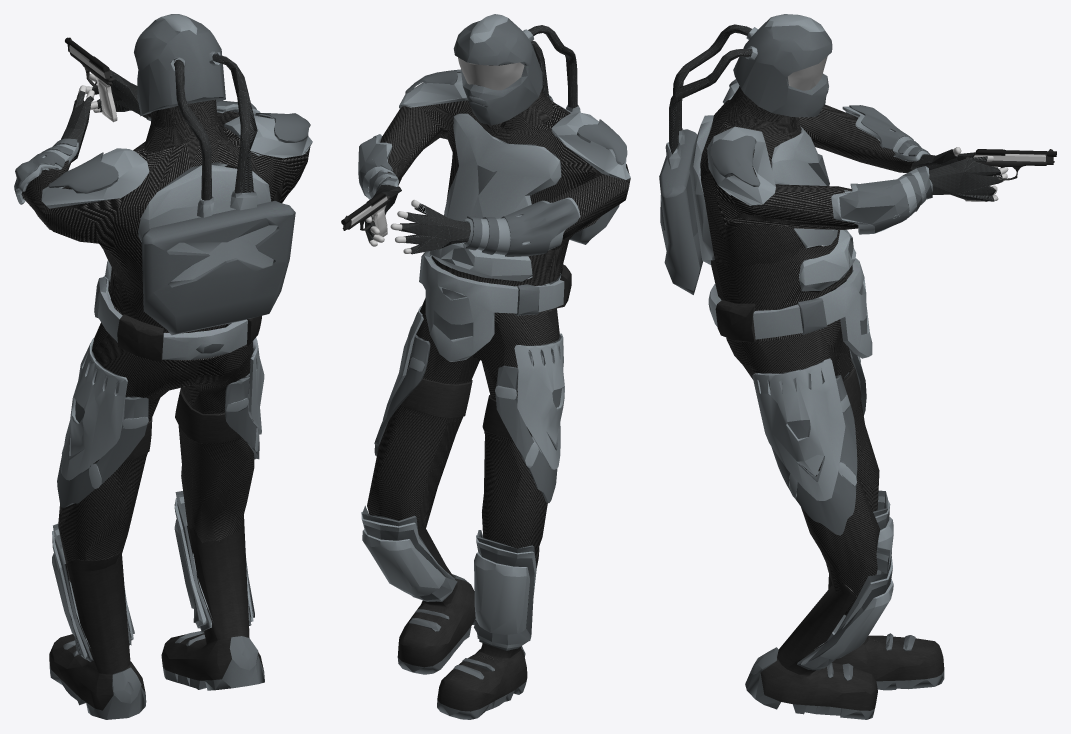
Rendered from AndarPistola.0016.obj.
3 views of the same model, side by side, from view 1: azimuth 30°, elevation 25°; view 2: azimuth 150°, elevation 25°; view 3: azimuth 270°, elevation 25° (orthographic). The views are drawn at different scales.
Visible parts, largest first — view 1: personajeskefix:personaje:extrudedSurface2 polySurface142, personajeskefix:personaje:bota1 polySurface142, personajeskefix:personaje:PANTALON polySurface142, personajeskefix:personaje:CAMISETABUENA polySurface142, personajeskefix:personaje:pPipe4 polySurface142, personajeskefix:personaje:pCube4 polySurface142, personajeskefix:personaje:cosoarmdaurapierna1 polySurface142, personajeskefix:personaje:cinturon polySurface142, personajeskefix:personaje:armadbota1 polySurface142, personajeskefix:personaje:polySurface6 polySurface142, personajeskefix:personaje:HOMBRO2 polySurface142, personajeskefix:personaje:polySurface11 polySurface142 (+5 smaller); view 2: personajeskefix:personaje:PANTALON polySurface142, personajeskefix:personaje:pPipe4 polySurface142, personajeskefix:personaje:CAMISETABUENA polySurface142, personajeskefix:personaje:bota1 polySurface142, personajeskefix:personaje:armadbota1 polySurface142, personajeskefix:personaje:cinturon polySurface142, personajeskefix:personaje:pCube4 polySurface142, personajeskefix:personaje:extrudedSurface2 polySurface142, personajeskefix:personaje:cosoarmdaurapierna1 polySurface142, personajeskefix:personaje:polySurface2 polySurface142, personajeskefix:personaje:polySurface6 polySurface142, personajeskefix:personaje:cosoarmadurapierna2 polySurface142 (+8 smaller); view 3: personajeskefix:personaje:CAMISETABUENA polySurface142, personajeskefix:personaje:pPipe4 polySurface142, personajeskefix:personaje:extrudedSurface2 polySurface142, personajeskefix:personaje:bota1 polySurface142, personajeskefix:personaje:pCube4 polySurface142, personajeskefix:personaje:PANTALON polySurface142, personajeskefix:personaje:cinturon polySurface142, personajeskefix:personaje:cosoarmadurapierna2 polySurface142, personajeskefix:personaje:armadbota1 polySurface142, personajeskefix:personaje:hombro1 polySurface142, pistola:Cylinder001 polySurface142, personajeskefix:personaje:polySurface2 polySurface142 (+4 smaller).
Part boxes in pixels (<box>): personajeskefix:personaje:extrudedSurface2 polySurface142: <box>134,14,295,335</box>; personajeskefix:personaje:bota1 polySurface142: <box>49,515,264,719</box>; personajeskefix:personaje:PANTALON polySurface142: <box>58,299,254,582</box>; personajeskefix:personaje:CAMISETABUENA polySurface142: <box>21,99,310,360</box>; personajeskefix:personaje:pPipe4 polySurface142: <box>41,69,312,280</box>; personajeskefix:personaje:pCube4 polySurface142: <box>53,323,264,661</box>; personajeskefix:personaje:cosoarmdaurapierna1 polySurface142: <box>61,338,148,488</box>; personajeskefix:personaje:cinturon polySurface142: <box>94,275,261,362</box>; personajeskefix:personaje:armadbota1 polySurface142: <box>52,496,253,659</box>; personajeskefix:personaje:polySurface6 polySurface142: <box>124,388,241,461</box>; personajeskefix:personaje:HOMBRO2 polySurface142: <box>48,152,118,193</box>; personajeskefix:personaje:polySurface11 polySurface142: <box>174,59,211,200</box>; personajeskefix:personaje:PANTALON polySurface142: <box>367,273,559,556</box>; personajeskefix:personaje:pPipe4 polySurface142: <box>358,72,630,281</box>; personajeskefix:personaje:CAMISETABUENA polySurface142: <box>368,64,630,314</box>; personajeskefix:personaje:bota1 polySurface142: <box>397,525,539,719</box>; personajeskefix:personaje:armadbota1 polySurface142: <box>361,511,536,648</box>; personajeskefix:personaje:cinturon polySurface142: <box>419,251,571,361</box>; personajeskefix:personaje:pCube4 polySurface142: <box>362,306,561,650</box>; personajeskefix:personaje:extrudedSurface2 polySurface142: <box>453,14,619,244</box>; personajeskefix:personaje:cosoarmdaurapierna1 polySurface142: <box>495,333,564,469</box>; personajeskefix:personaje:polySurface2 polySurface142: <box>465,199,578,256</box>; personajeskefix:personaje:polySurface6 polySurface142: <box>400,378,512,439</box>; personajeskefix:personaje:cosoarmadurapierna2 polySurface142: <box>374,334,430,456</box>; personajeskefix:personaje:CAMISETABUENA polySurface142: <box>700,86,916,341</box>; personajeskefix:personaje:pPipe4 polySurface142: <box>689,81,1002,291</box>; personajeskefix:personaje:extrudedSurface2 polySurface142: <box>659,14,832,294</box>; personajeskefix:personaje:bota1 polySurface142: <box>745,574,944,719</box>; personajeskefix:personaje:pCube4 polySurface142: <box>752,348,891,670</box>; personajeskefix:personaje:PANTALON polySurface142: <box>726,280,880,615</box>; personajeskefix:personaje:cinturon polySurface142: <box>708,258,872,358</box>; personajeskefix:personaje:cosoarmadurapierna2 polySurface142: <box>759,375,857,535</box>; personajeskefix:personaje:armadbota1 polySurface142: <box>801,496,893,669</box>; personajeskefix:personaje:hombro1 polySurface142: <box>710,135,760,187</box>; pistola:Cylinder001 polySurface142: <box>965,149,1056,201</box>; personajeskefix:personaje:polySurface2 polySurface142: <box>849,105,930,156</box>.
Bounding box in the file's own units: 3.66 × 9.52 × 5.02.
